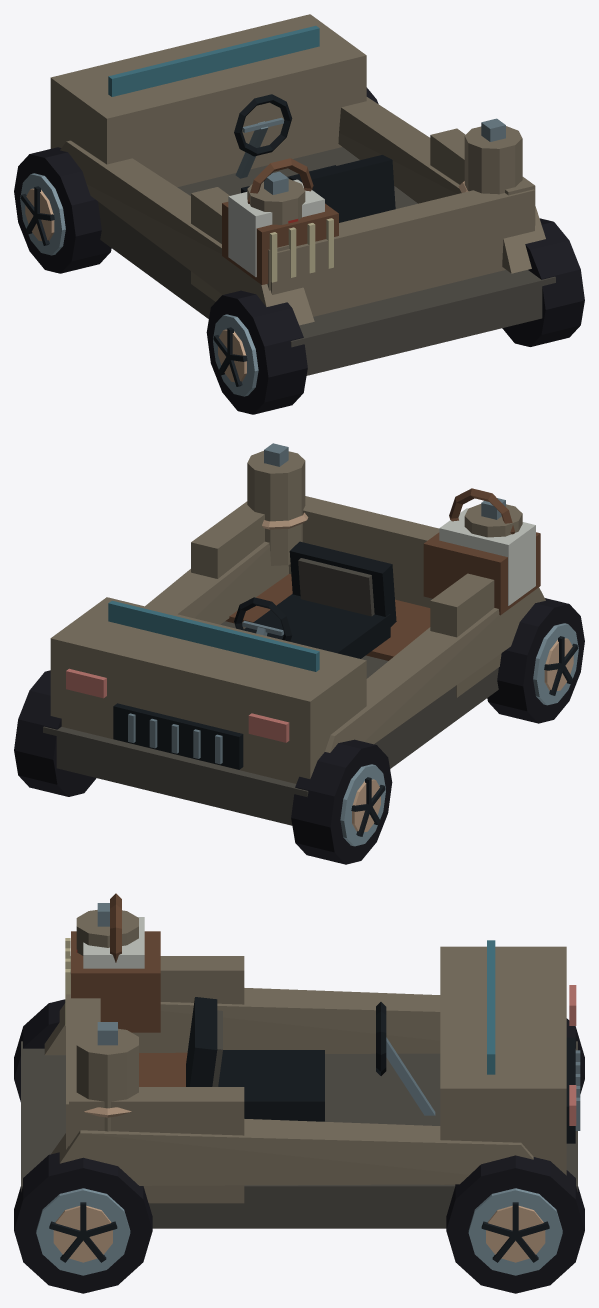
File: kart.glb
3 views of the same model, one above another, from view 1: azimuth 30°, elevation 25°; view 2: azimuth 150°, elevation 25°; view 3: azimuth 270°, elevation 25° (orthographic). The views are drawn at different scales.
Parts seen in each view (by area): view 1: identity-truck-truck-utility-body, wheel-rear-left, wheel-front-left, identity-truck-driver-cockpit, identity-truck-motif-tanks, wheel-rear-right, identity-truck-motif-basket, identity-truck-motif-medical; view 2: identity-truck-truck-utility-body, identity-truck-driver-cockpit, wheel-front-left, wheel-rear-left, identity-truck-motif-tanks, identity-truck-motif-basket, wheel-front-right, identity-truck-motif-medical; view 3: identity-truck-truck-utility-body, wheel-front-right, wheel-rear-right, identity-truck-driver-cockpit, identity-truck-motif-tanks, identity-truck-motif-basket, wheel-rear-left, identity-truck-motif-medical.
Part boxes in pixels (x1,y1,x2,y2): identity-truck-truck-utility-body: [50, 14, 555, 375]; wheel-rear-left: [206, 290, 307, 414]; wheel-front-left: [14, 147, 111, 273]; identity-truck-driver-cockpit: [234, 94, 395, 222]; identity-truck-motif-tanks: [247, 118, 522, 224]; wheel-rear-right: [502, 218, 584, 346]; identity-truck-motif-basket: [222, 158, 338, 284]; identity-truck-motif-medical: [228, 179, 324, 276]; identity-truck-truck-utility-body: [43, 496, 545, 825]; identity-truck-driver-cockpit: [234, 541, 396, 658]; wheel-front-left: [291, 739, 392, 864]; wheel-rear-left: [487, 598, 584, 723]; identity-truck-motif-tanks: [247, 443, 522, 565]; identity-truck-motif-basket: [423, 488, 540, 615]; wheel-front-right: [14, 670, 96, 796]; identity-truck-motif-medical: [439, 508, 535, 605]; identity-truck-truck-utility-body: [21, 940, 580, 1228]; wheel-front-right: [446, 1155, 584, 1293]; wheel-rear-right: [14, 1152, 152, 1293]; identity-truck-driver-cockpit: [186, 997, 435, 1121]; identity-truck-motif-tanks: [76, 903, 138, 1131]; identity-truck-motif-basket: [65, 893, 160, 1032]; wheel-rear-left: [14, 999, 65, 1101]; identity-truck-motif-medical: [76, 917, 144, 968].
Size of the model in its own units: 2.13 by 1.37 by 2.8.
